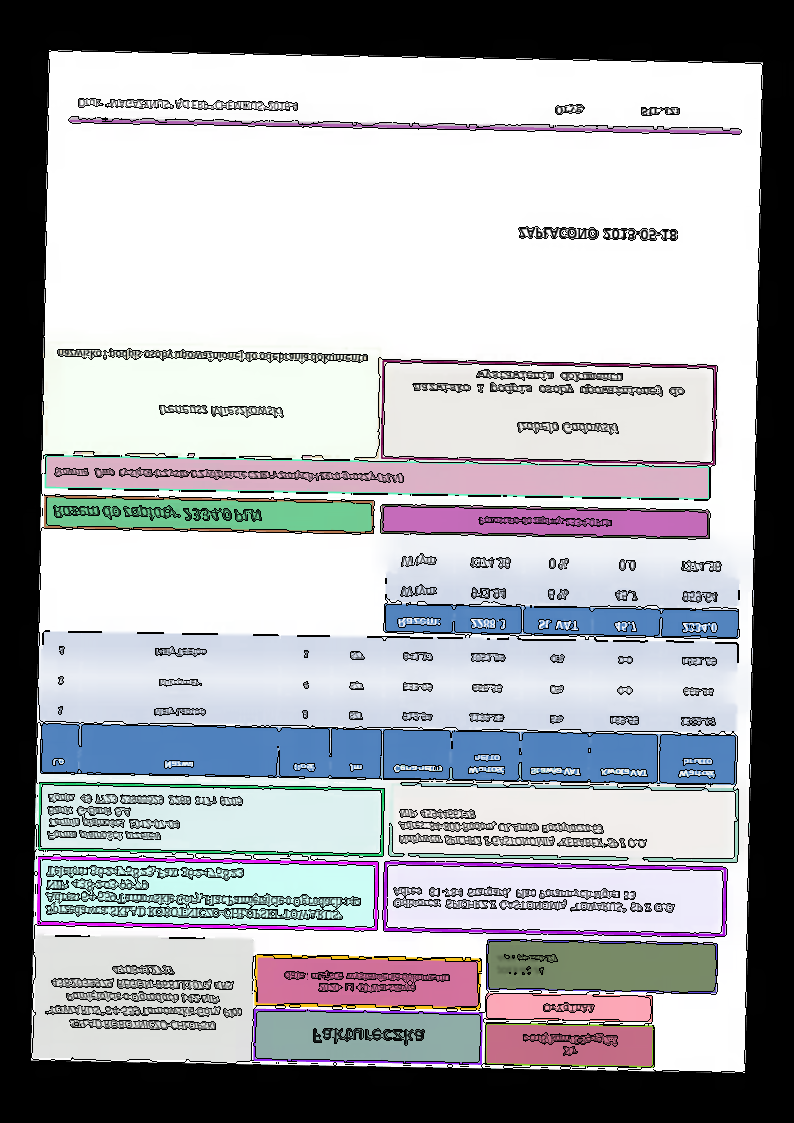Table: (39, 630, 740, 787), (382, 540, 742, 640)
TextBox: (43, 864, 366, 924), (42, 959, 248, 1035), (397, 806, 652, 852), (45, 791, 245, 846), (389, 883, 679, 917), (410, 367, 687, 400), (53, 464, 405, 486), (55, 345, 370, 369), (50, 501, 264, 527), (76, 93, 299, 116), (281, 969, 453, 996), (513, 224, 682, 246), (519, 1029, 620, 1060), (156, 400, 285, 423), (310, 1025, 426, 1048), (514, 417, 622, 440), (475, 515, 617, 532), (552, 102, 684, 120), (493, 949, 560, 978), (540, 999, 595, 1016)
